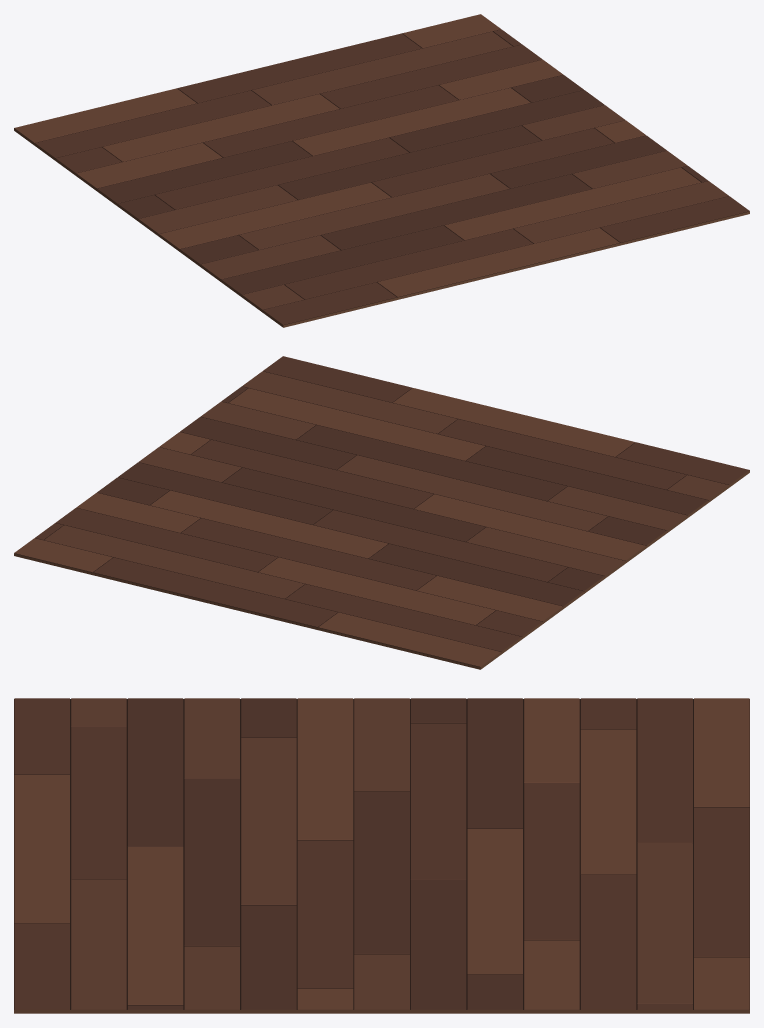
File: floor_board.obj
The picture shows the model from 3 angles, top to bottom: view 1: azimuth 30°, elevation 25°; view 2: azimuth 150°, elevation 25°; view 3: azimuth 270°, elevation 25°; orthographic projection. The views are drawn at different scales.
Parts seen in each view (by area): view 1: floor_board; view 2: floor_board; view 3: floor_board.
Boxes of the visible parts, <box> form: floor_board: <box>14,14,749,327</box>; floor_board: <box>14,356,749,669</box>; floor_board: <box>14,698,749,1013</box>.
Bounding box in the file's own units: 200 × 1.2 × 200.
Materials: 1 (1 with a texture image).
